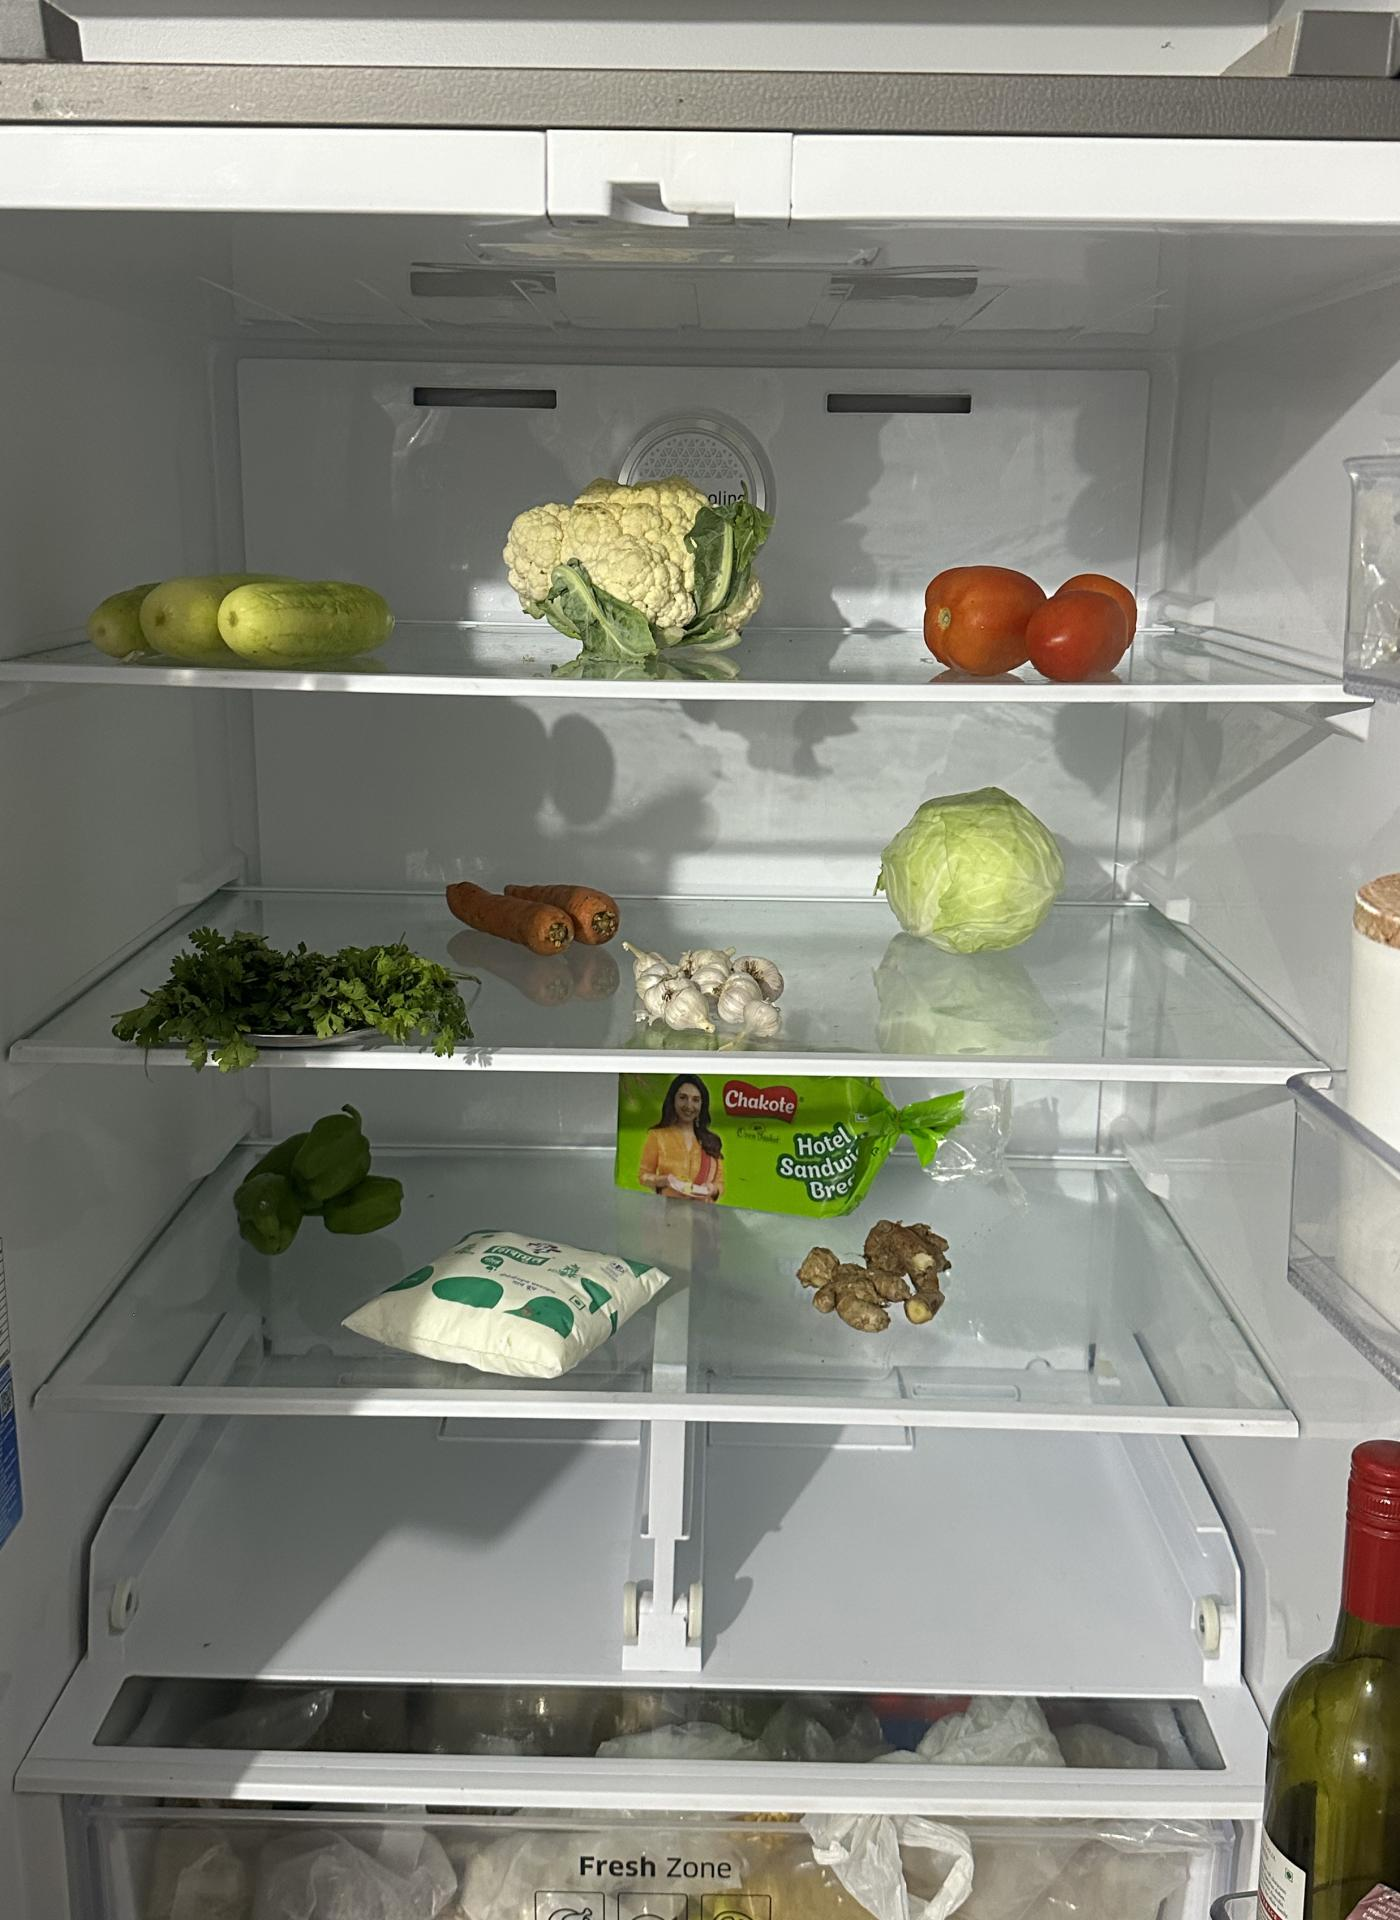bread: (620, 1069, 914, 1206)
cabbage: (880, 790, 1065, 954)
capsicum: (233, 1117, 403, 1254)
carrots: (444, 872, 623, 953)
cauliflower: (507, 480, 769, 647)
coriander: (133, 938, 474, 1064)
cucumber: (86, 575, 401, 666)
garlic: (631, 942, 787, 1035)
ginger: (798, 1218, 951, 1334)
milk: (344, 1236, 675, 1382)
tomato: (920, 565, 1141, 687)
